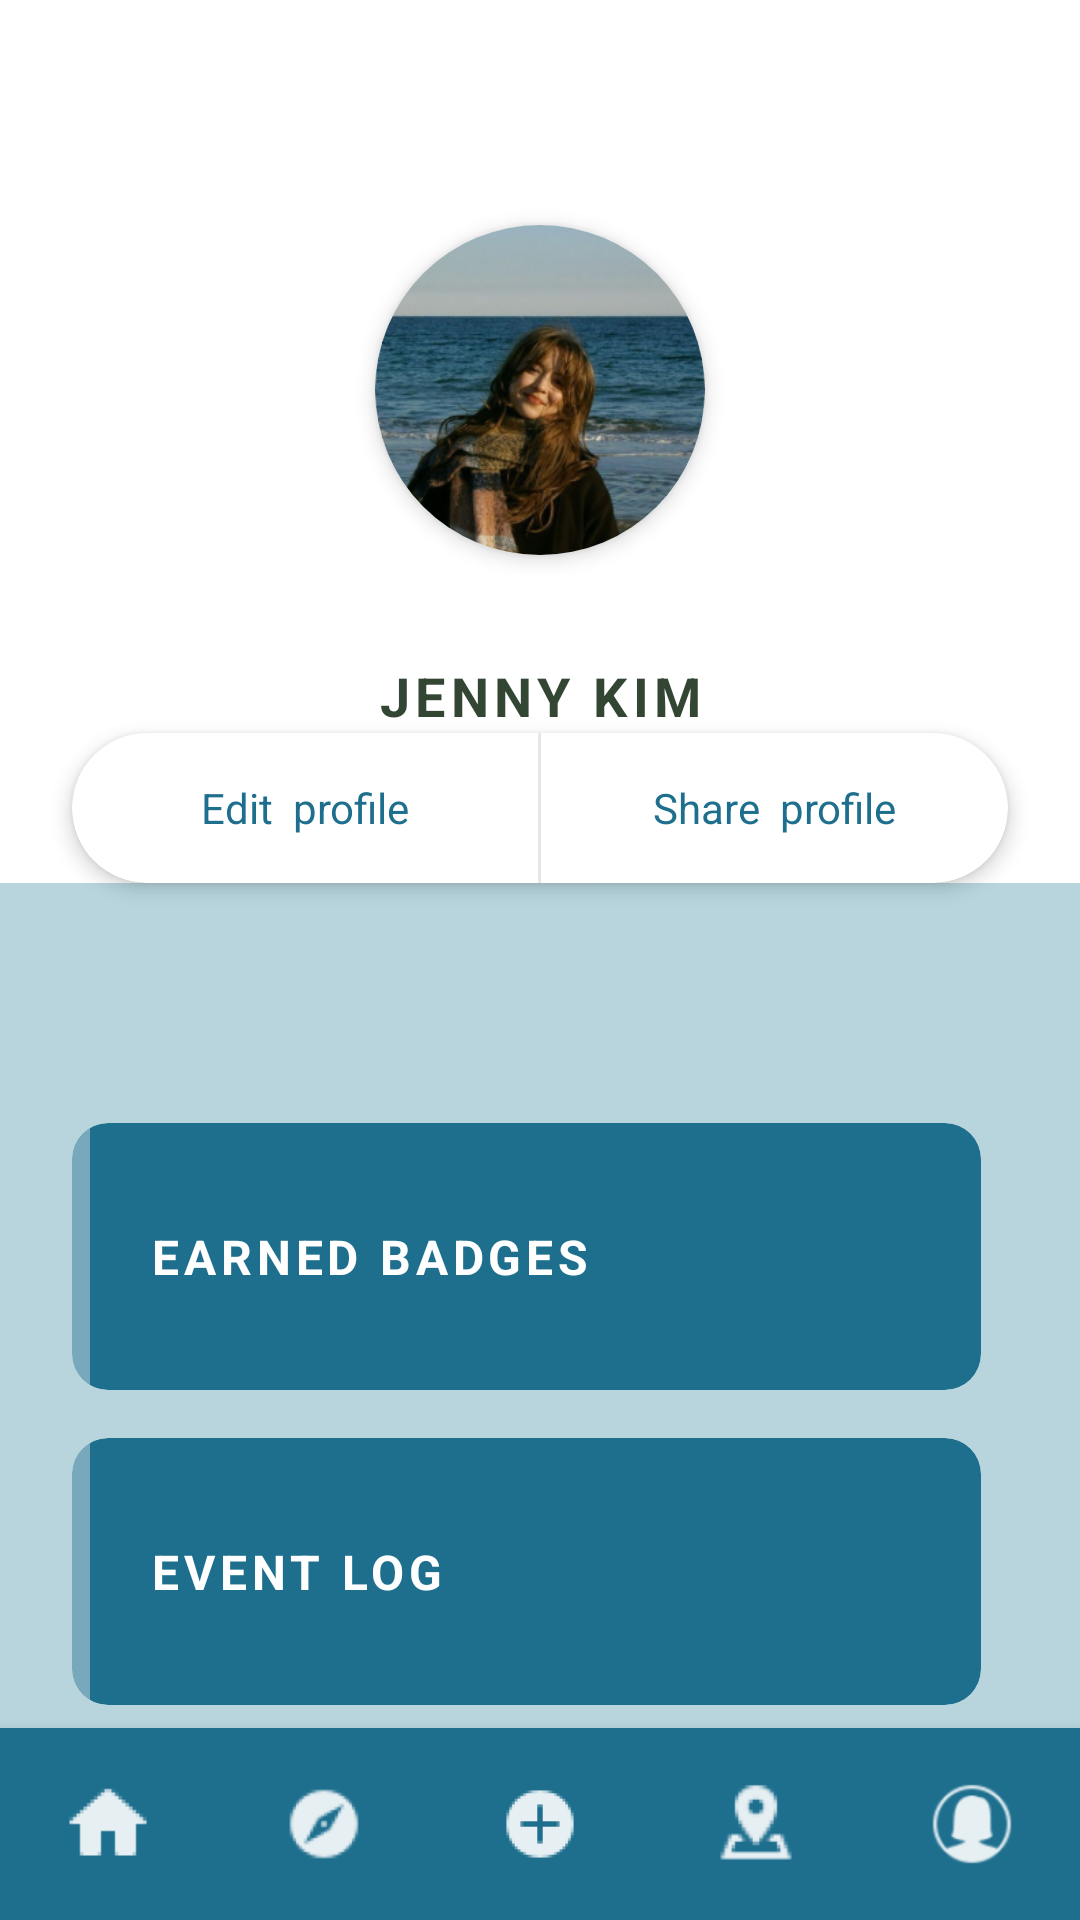

Icons on this 1080x1920 Android screen, each with its box as detection(x1, y1, x2, y2):
add: detection(506, 1790, 574, 1858)
area: detection(720, 1785, 792, 1860)
compass: detection(289, 1789, 359, 1859)
home: detection(69, 1788, 147, 1856)
profile: detection(932, 1785, 1011, 1864)
